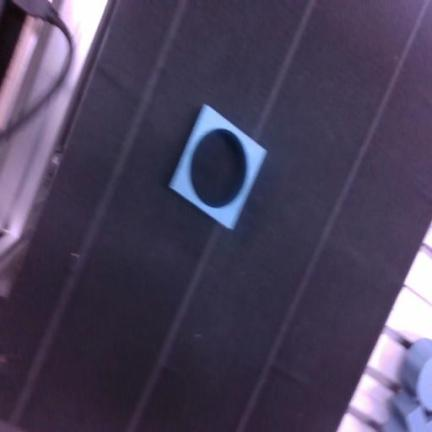hole: (170, 105, 266, 228)
